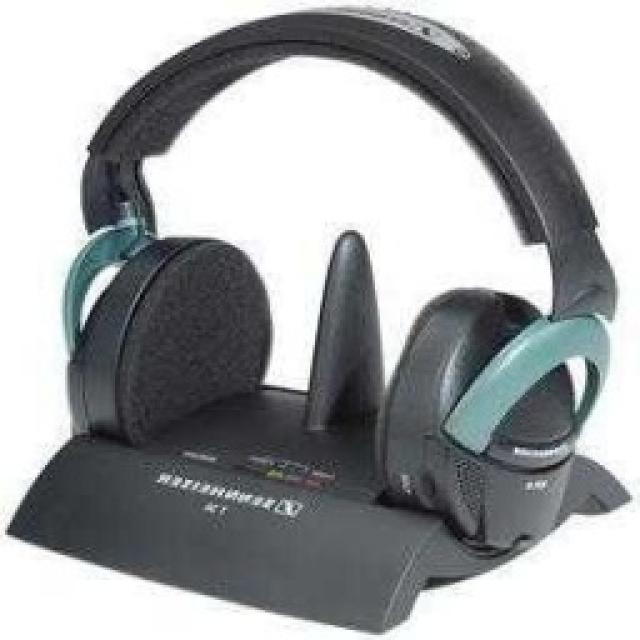headphones: (58, 0, 618, 555)
